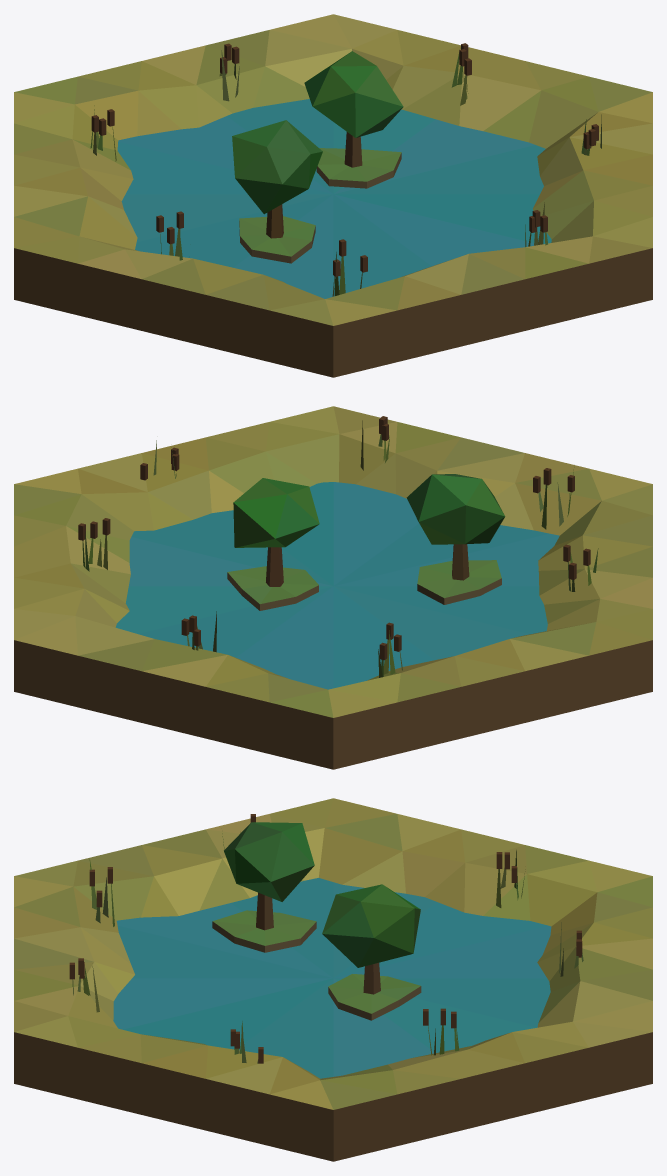
File: Lake Victoria.glb
The picture shows the model from 3 angles, top to bottom: view 1: azimuth 30°, elevation 25°; view 2: azimuth 150°, elevation 25°; view 3: azimuth 270°, elevation 25°; orthographic projection.
Visible parts, largest first — view 1: Lake Victoria; view 2: Lake Victoria; view 3: Lake Victoria.
Part boxes in pixels (left/top/right/bottom): Lake Victoria: left=14, top=14, right=652, bottom=377; Lake Victoria: left=14, top=406, right=652, bottom=769; Lake Victoria: left=14, top=798, right=652, bottom=1161.
Size of the model in its own units: 1.94 by 0.4014 by 1.68.
